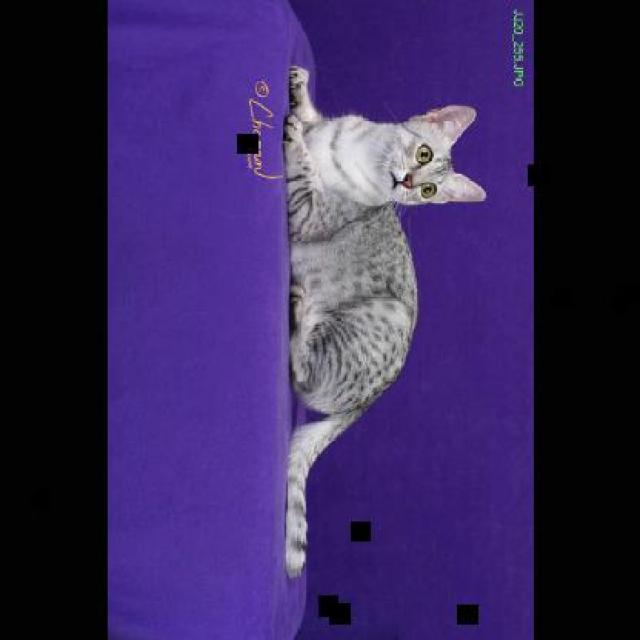unauthorized: (280, 63, 488, 579)
